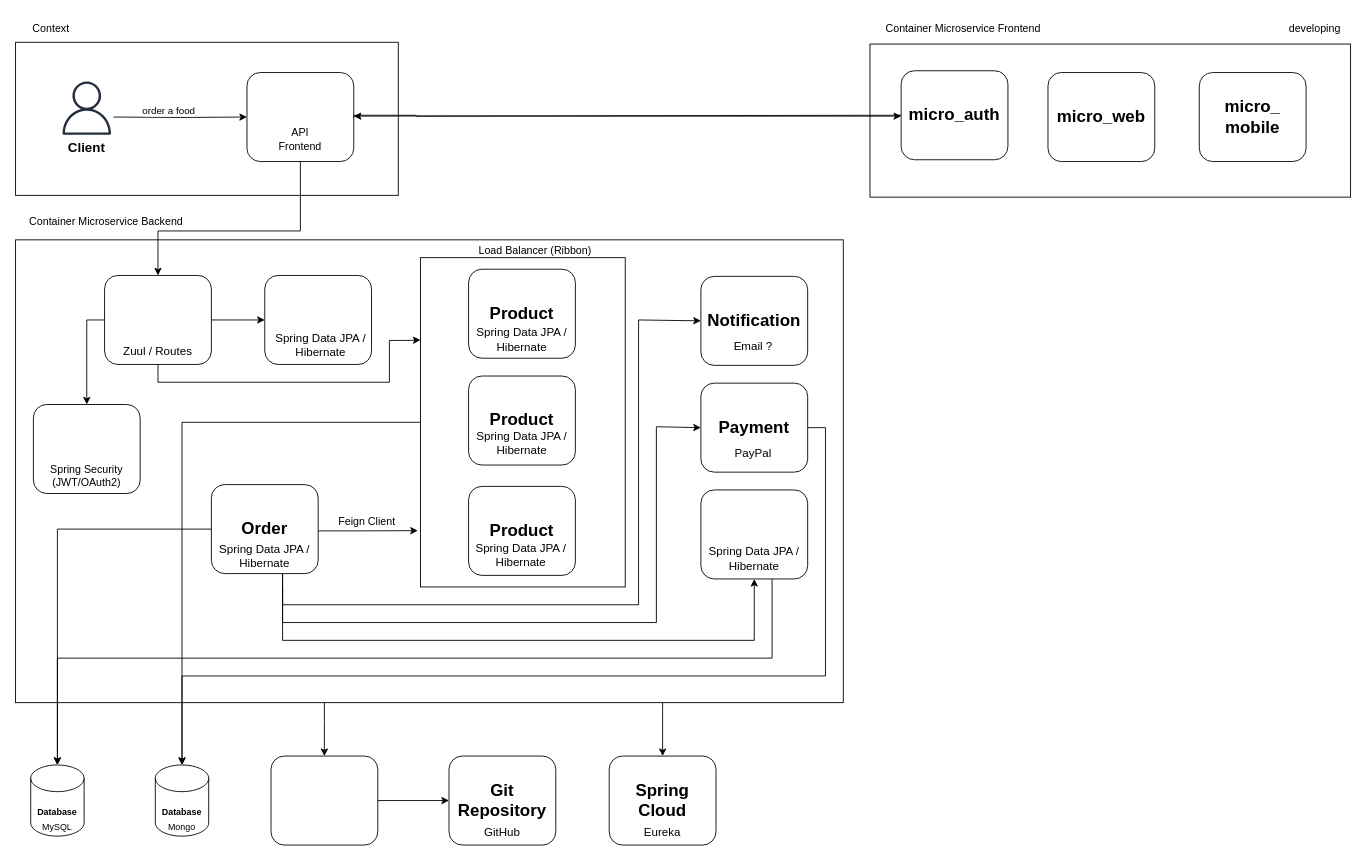
The diagram is 1366 pixels wide and 861 high, and some of its shapes have lost their labels. Each missing label, with the box of its shape:
API Gateway: (104, 275, 211, 364)
Authetication Authorization: (32, 404, 140, 494)
Config Server: (270, 755, 378, 845)
food: (246, 72, 354, 162)
Inventory: (700, 489, 808, 579)
User: (264, 275, 372, 364)
